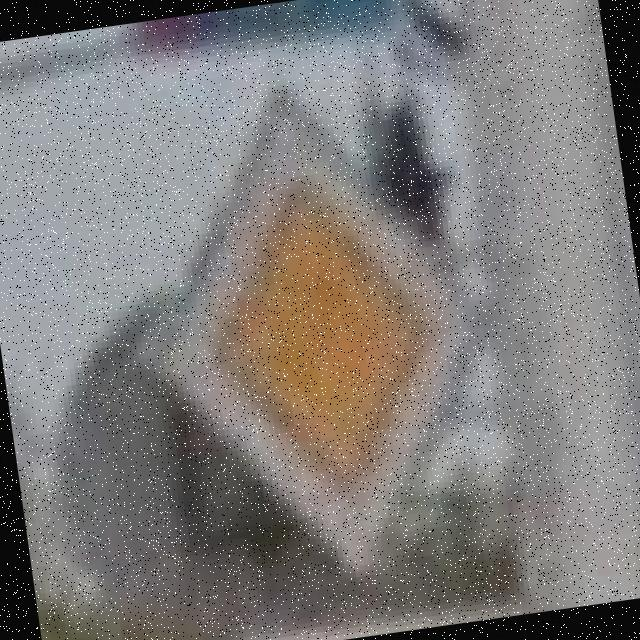Droga z pierwszenstwem: (118, 61, 520, 606)
